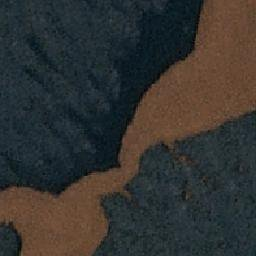debris: (194, 1, 256, 122), (152, 65, 194, 157), (117, 99, 152, 197), (1, 181, 59, 232), (61, 166, 116, 212), (61, 216, 111, 256), (9, 236, 57, 254)
